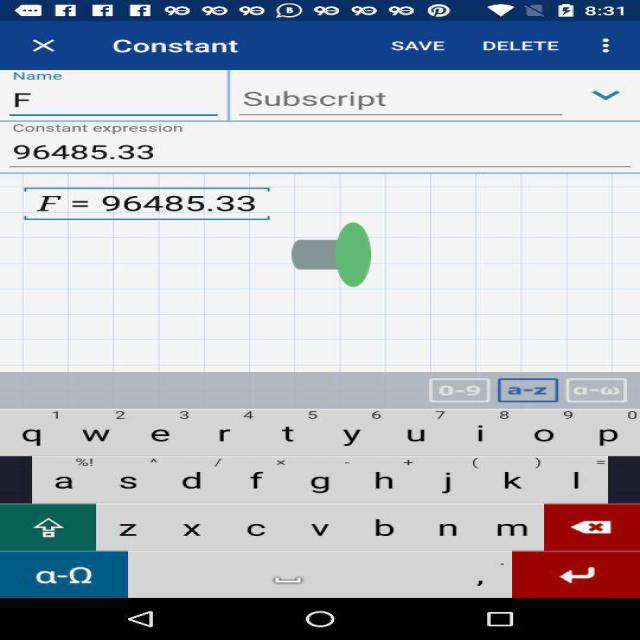social proof: (292, 182, 371, 326)
